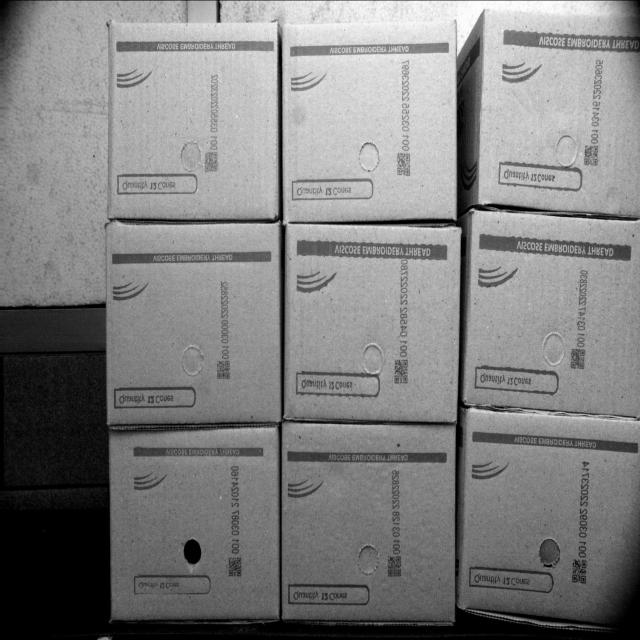cardboxes: (456, 409, 640, 629), (465, 208, 640, 414), (278, 423, 454, 627), (107, 220, 284, 422), (107, 17, 280, 223), (102, 429, 284, 623), (284, 226, 466, 418), (281, 17, 454, 216), (471, 10, 640, 208)
